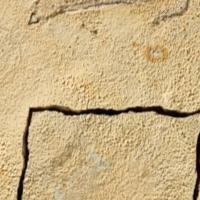crack: (8, 96, 199, 199)
